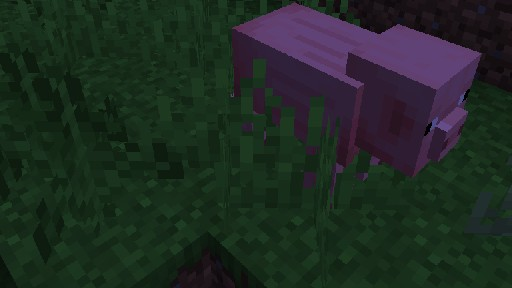pig: (228, 1, 481, 210)
